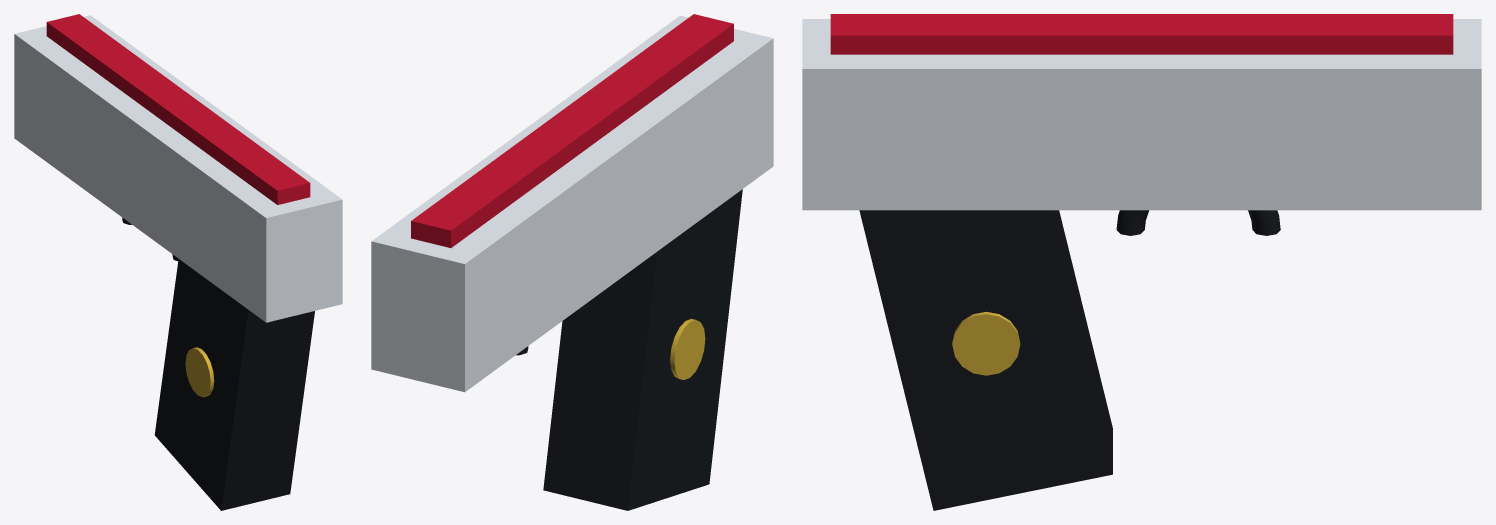
File: deagle.glb
3 views of the same model, side by side, from view 1: azimuth 30°, elevation 25°; view 2: azimuth 150°, elevation 25°; view 3: azimuth 270°, elevation 25° (orthographic). The views are drawn at different scales.
Visible parts, largest first — view 1: deagle; view 2: deagle; view 3: deagle.
Part boxes in pixels (x1,y1,x2,y2): deagle: [14, 14, 342, 510]; deagle: [371, 14, 773, 510]; deagle: [802, 14, 1481, 510].
Size of the model in its own units: 0.0473 by 0.2032 by 0.27.
